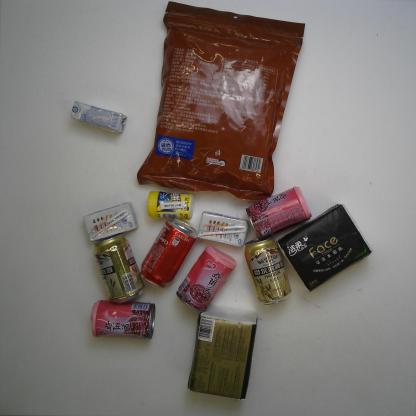Alcohol: (92, 232, 145, 306), (243, 235, 293, 308)
Canned Food: (176, 244, 238, 313), (245, 186, 313, 240), (89, 299, 156, 340)
Dried Food: (135, 0, 306, 203)
Drink: (140, 217, 198, 289)
Gum: (146, 190, 195, 221)
Milk: (82, 201, 138, 244), (68, 98, 130, 136), (196, 210, 250, 247)
Tissue: (276, 202, 374, 294), (186, 304, 259, 402)
